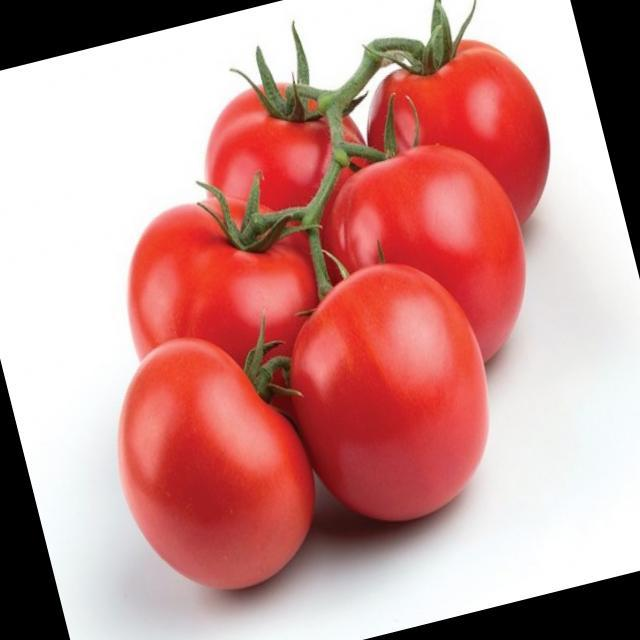TOMATO: (304, 118, 559, 406), (264, 247, 513, 540), (92, 311, 328, 600), (340, 0, 584, 255), (110, 176, 336, 396), (179, 51, 379, 239)
